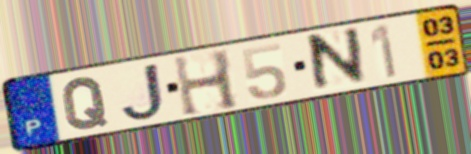1: (368, 20, 400, 81)
5: (237, 40, 289, 101)
H: (170, 47, 243, 119)
J: (118, 60, 168, 125)
N: (308, 24, 369, 97)
Q: (60, 75, 111, 132)
